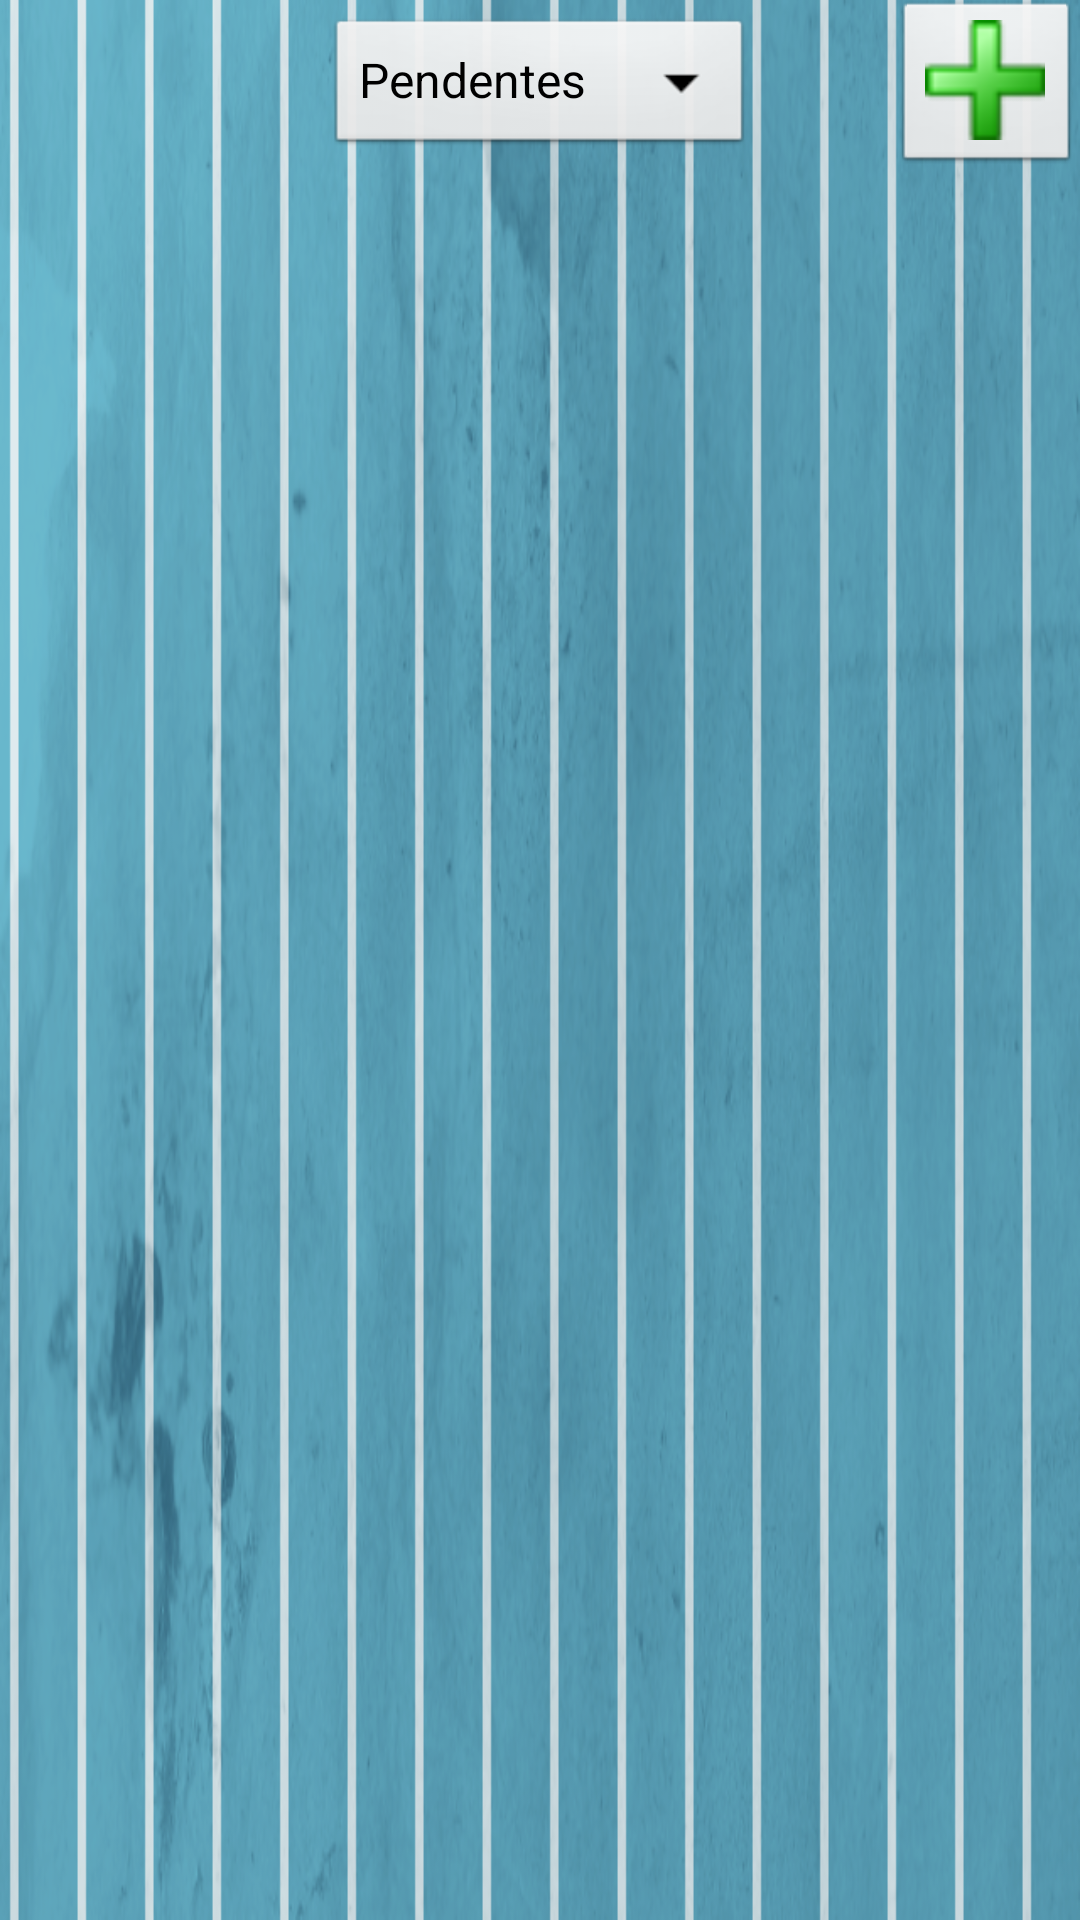

Named icons in this screenshot (1080px x 1920px) and their centers, [x,y]:
plus: [986,87]
